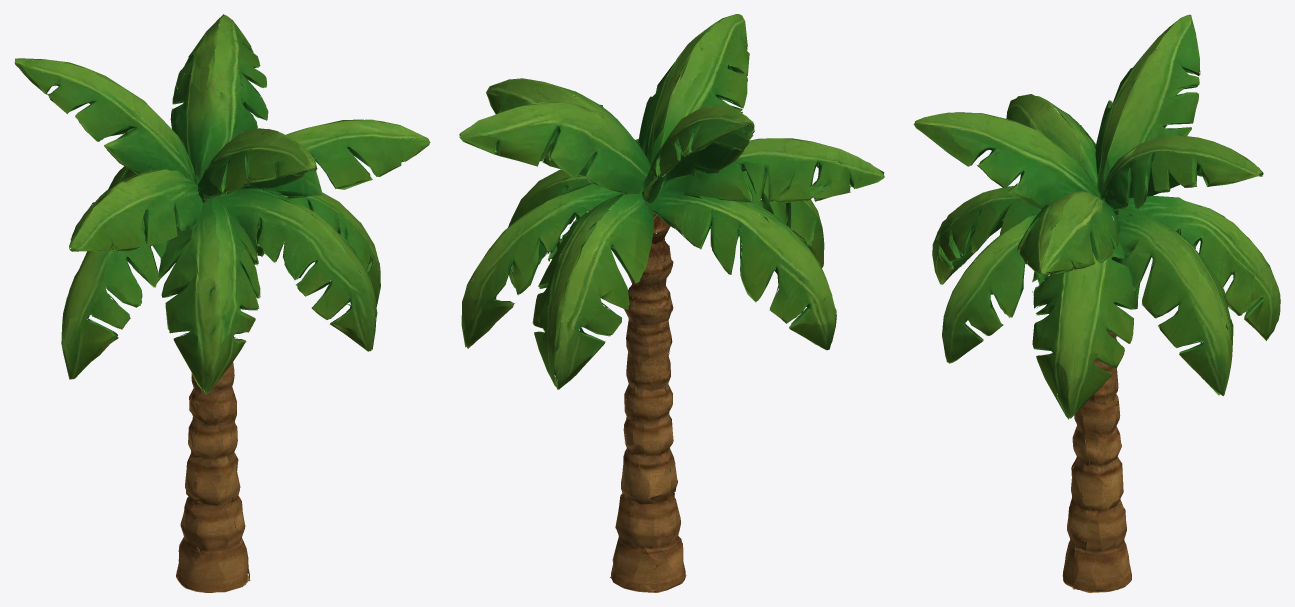
File: palm.glb
3 views of the same model, side by side, from view 1: azimuth 30°, elevation 25°; view 2: azimuth 150°, elevation 25°; view 3: azimuth 270°, elevation 25° (orthographic). The views are drawn at different scales.
Visible parts, largest first — view 1: Mesh_0; view 2: Mesh_0; view 3: Mesh_0.
Boxes of the visible parts, bbox=[...] form: Mesh_0: bbox=[14, 14, 430, 592]; Mesh_0: bbox=[459, 14, 884, 592]; Mesh_0: bbox=[913, 14, 1280, 592].
Bounding box in the file's own units: 0.7537 × 1 × 0.6704.
Materials: 1 (1 with a texture image).
